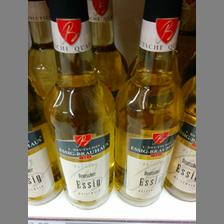Essig: (43, 0, 120, 210), (117, 0, 182, 208)
